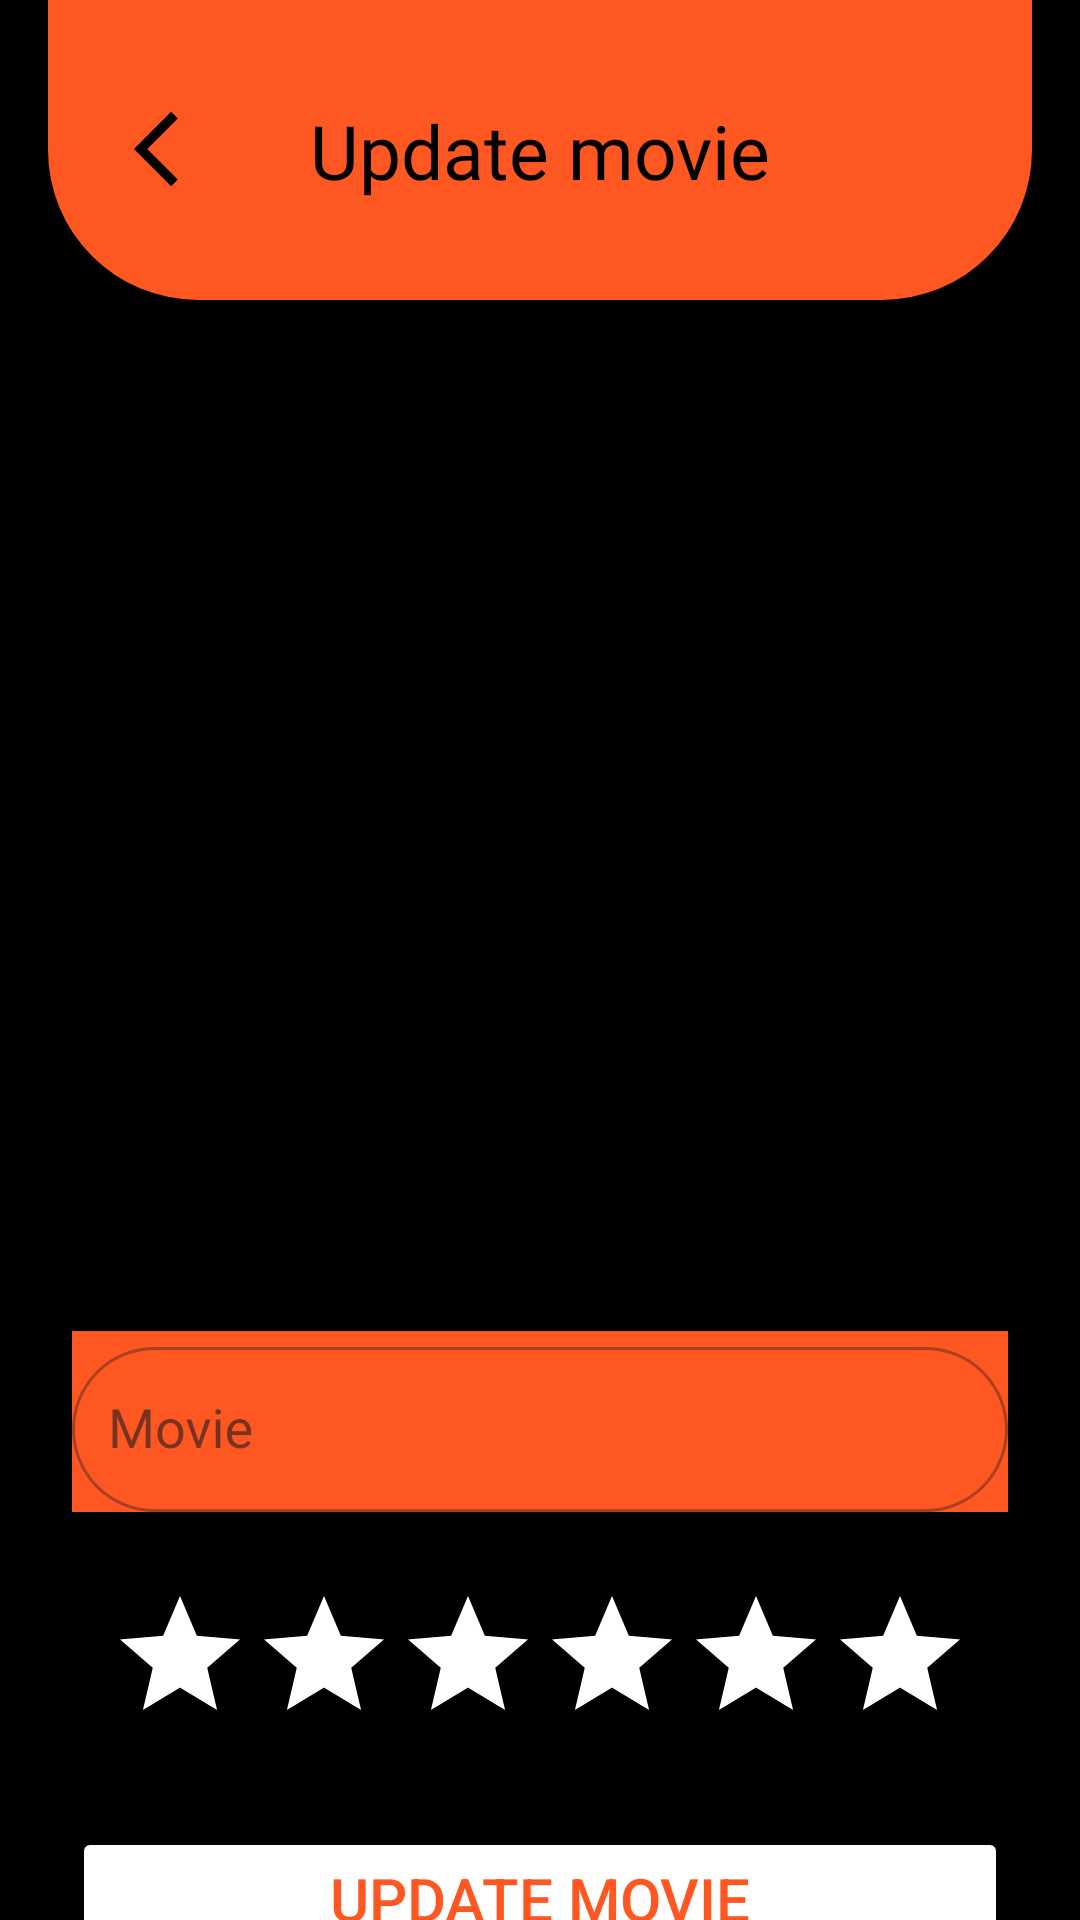

Icon click points for this 1080px x 1920px phone screenshot, format (x=x, y=y):
details back: (x=156, y=149)
